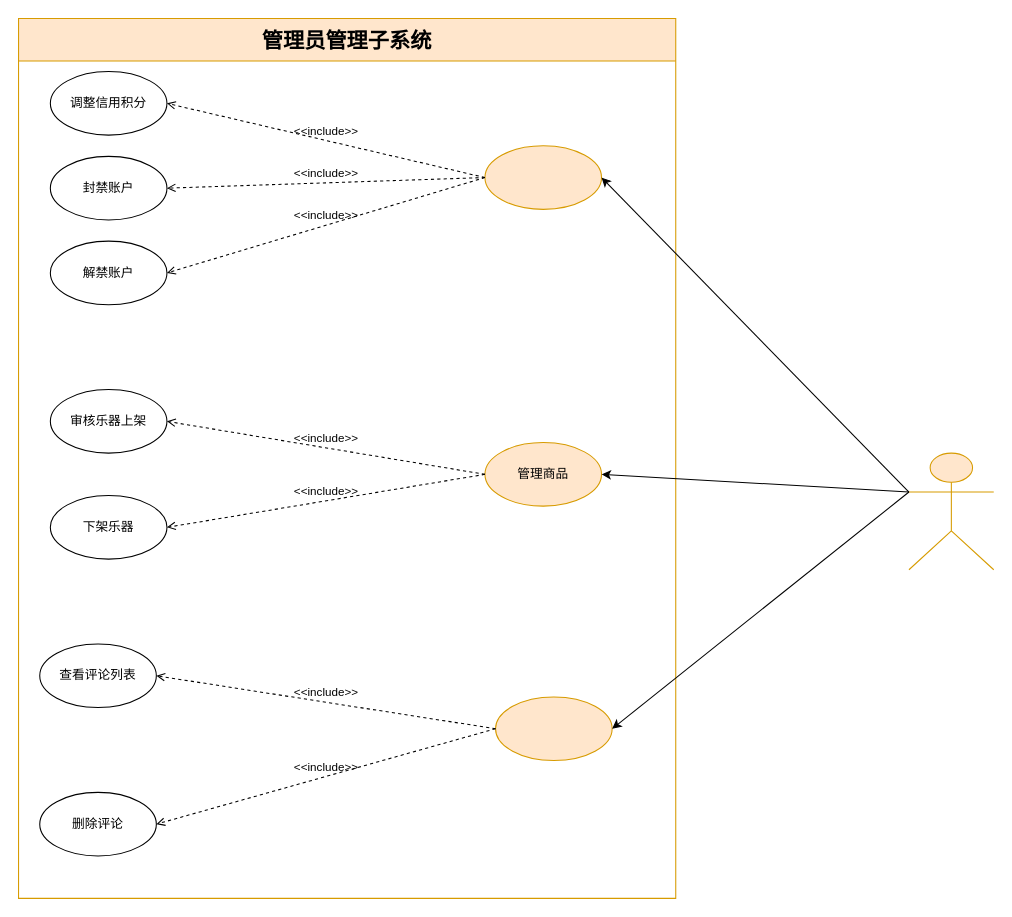
The diagram is 1012 pixels wide and 917 high, and some of its shapes have lost their labels. Each missing label, with the box of its shape:
管理员: (908, 452, 994, 570)
管理用户: (484, 145, 602, 209)
管理评论: (494, 696, 612, 761)
